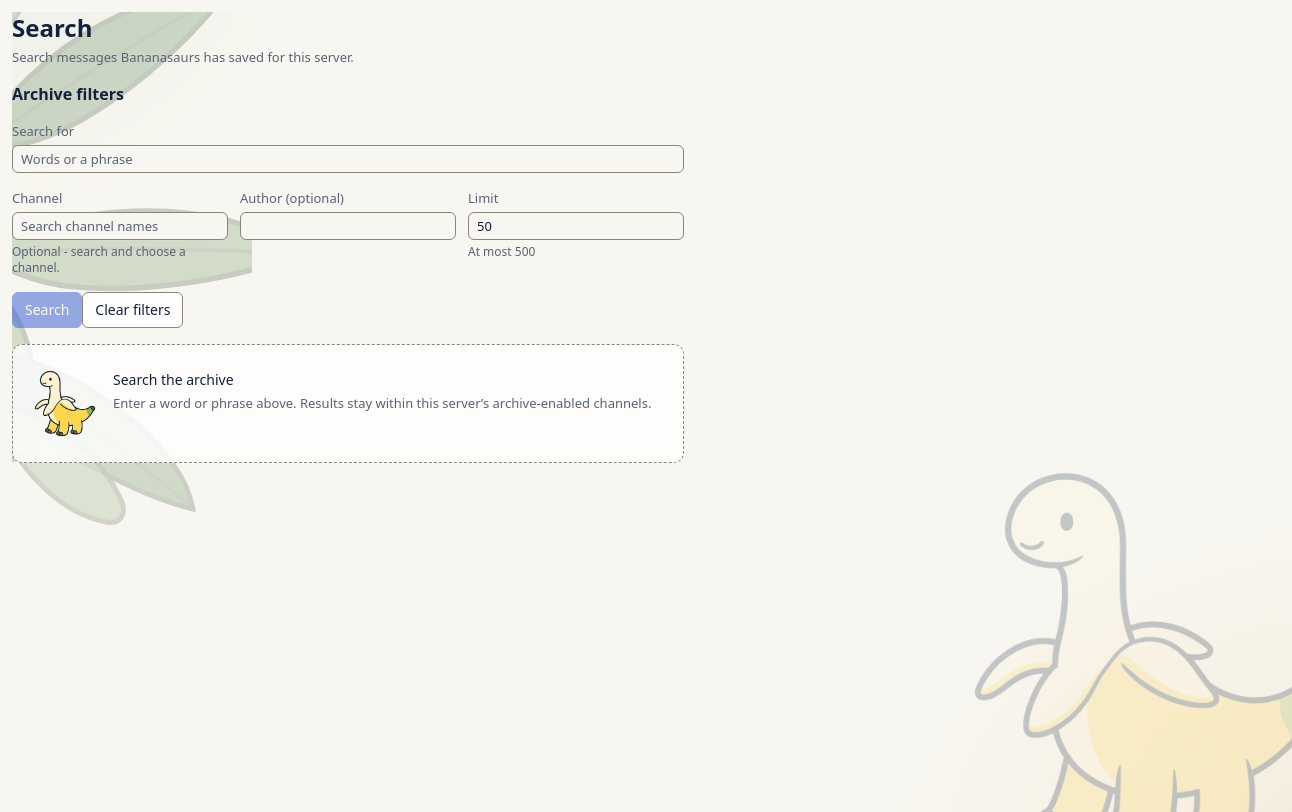
SearchPage › passes channel and author filters and skips empty ones
Type "compressor" into the field labelled "Search for". click: (348, 159)
box: [12,145,684,173]
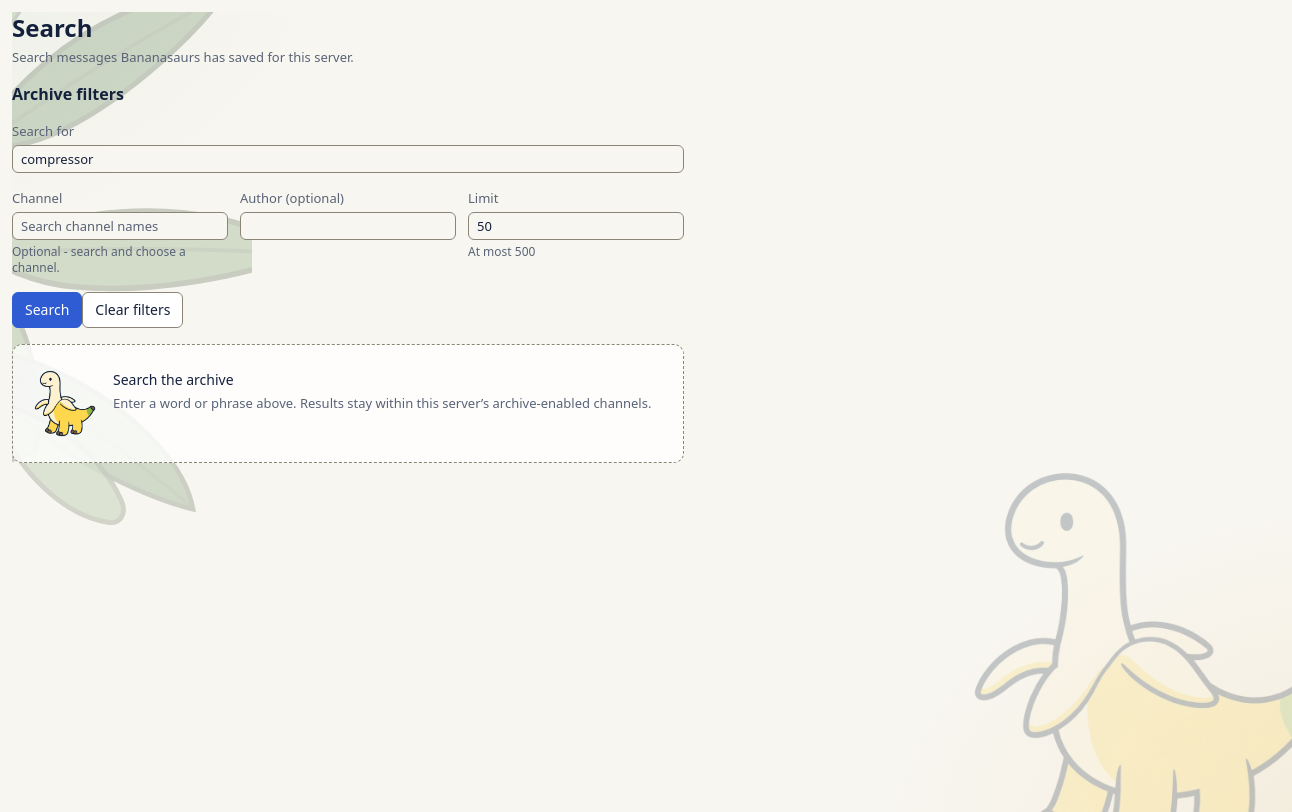
Type " c9 " into the field labelled "Channel". click: (120, 226)
box: [12,212,228,240]
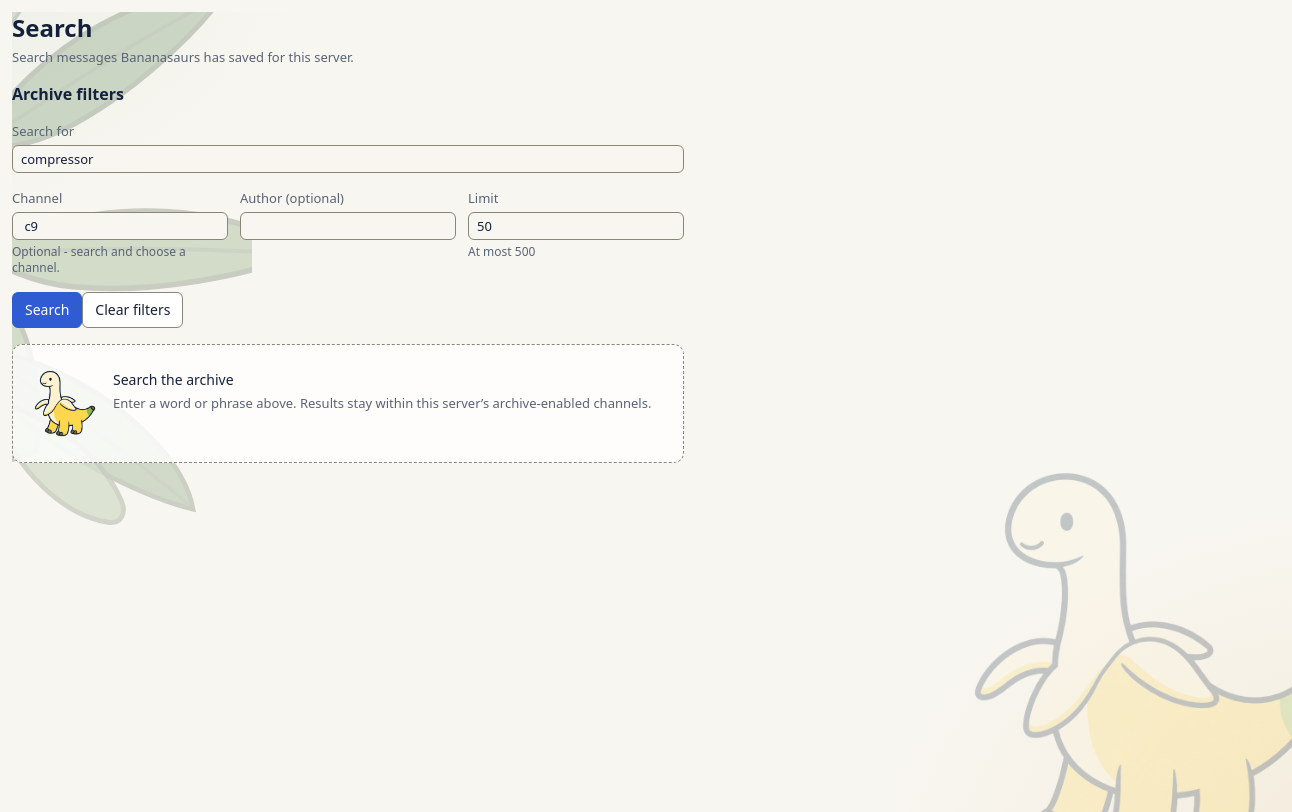
Type "a7" into the field labelled "Author (optional)". click: (348, 226)
box: [240,212,456,240]
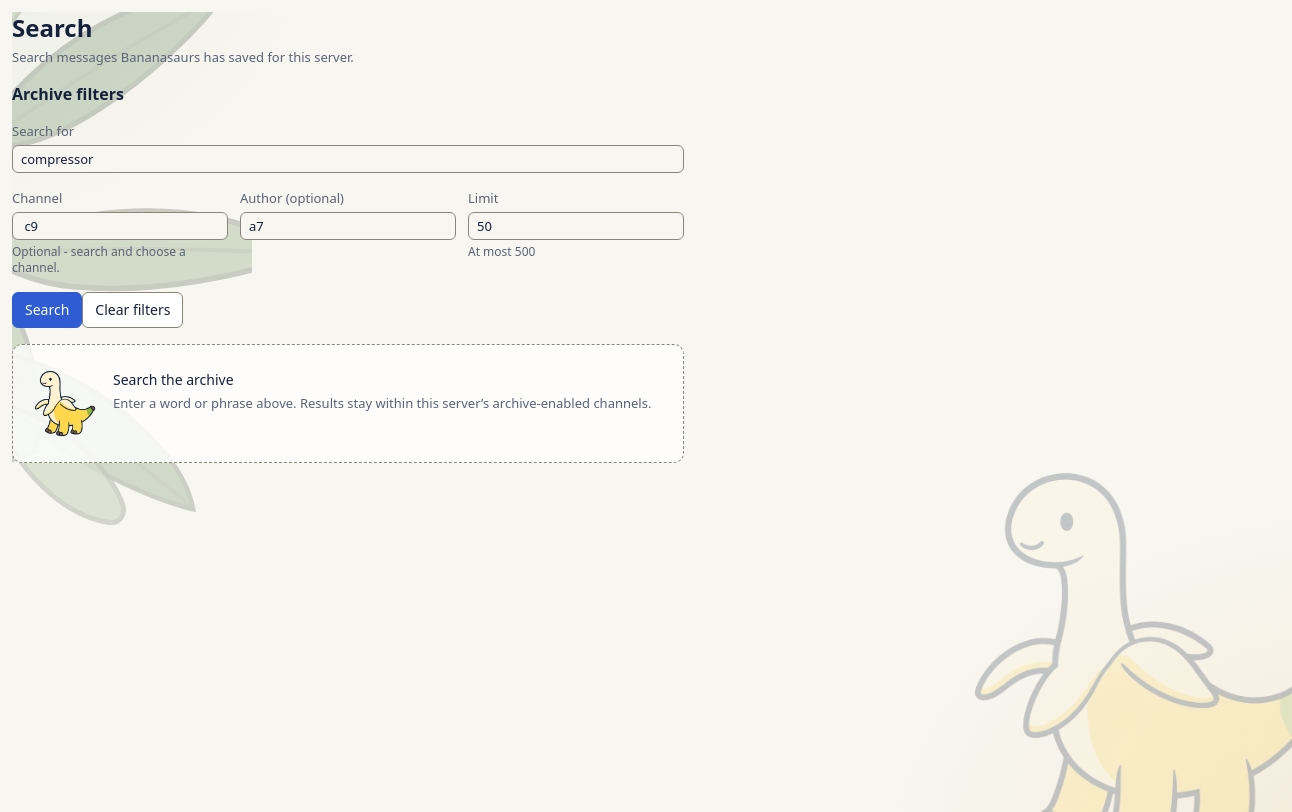
Click the button "Search". click: (47, 310)
box: [12,292,82,328]
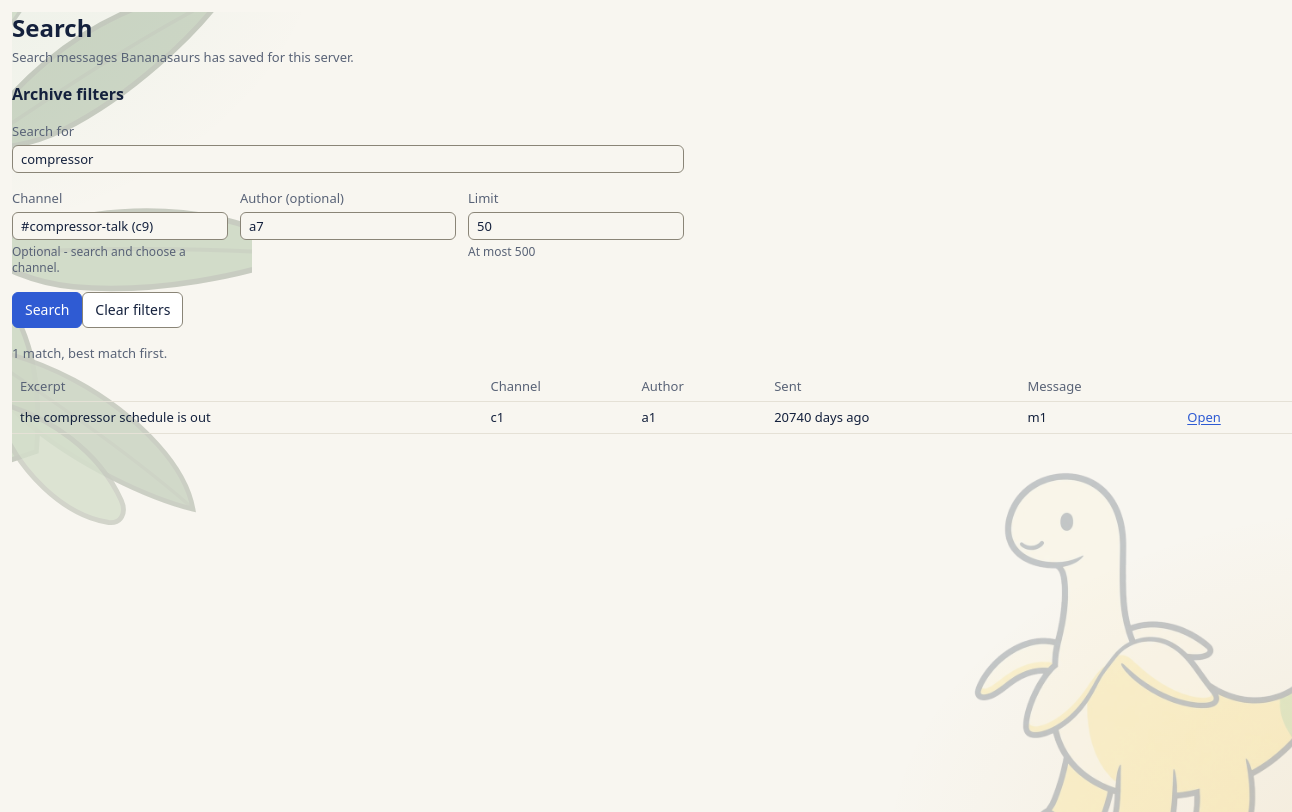
Result: the text "the compressor schedule is out" is shown at [20,408,211,426]
